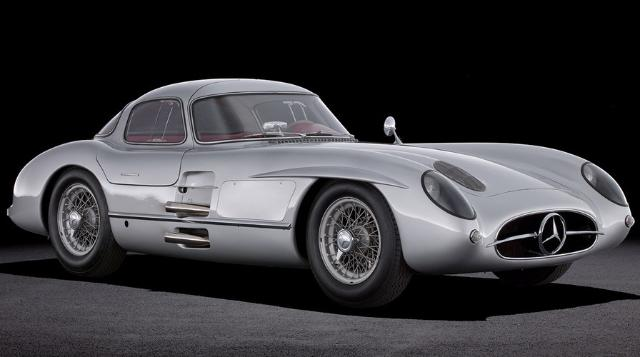benz: (7, 78, 635, 310)
